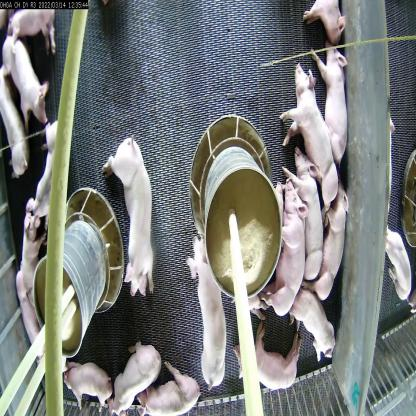Pig: (271, 70, 343, 214), (98, 131, 158, 288), (185, 235, 244, 389), (304, 167, 356, 304), (299, 32, 353, 160), (286, 151, 328, 284), (278, 281, 340, 367), (4, 261, 46, 382), (242, 321, 309, 396), (0, 32, 49, 127), (5, 193, 54, 287), (124, 357, 201, 415), (107, 336, 160, 415), (275, 181, 304, 318), (58, 353, 116, 414), (39, 126, 74, 218), (298, 0, 349, 56)
